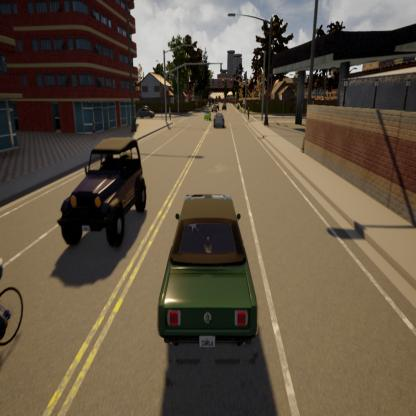Cars: (158, 197, 260, 358), (58, 138, 146, 256), (136, 106, 154, 117), (213, 113, 224, 130), (204, 107, 212, 121)
